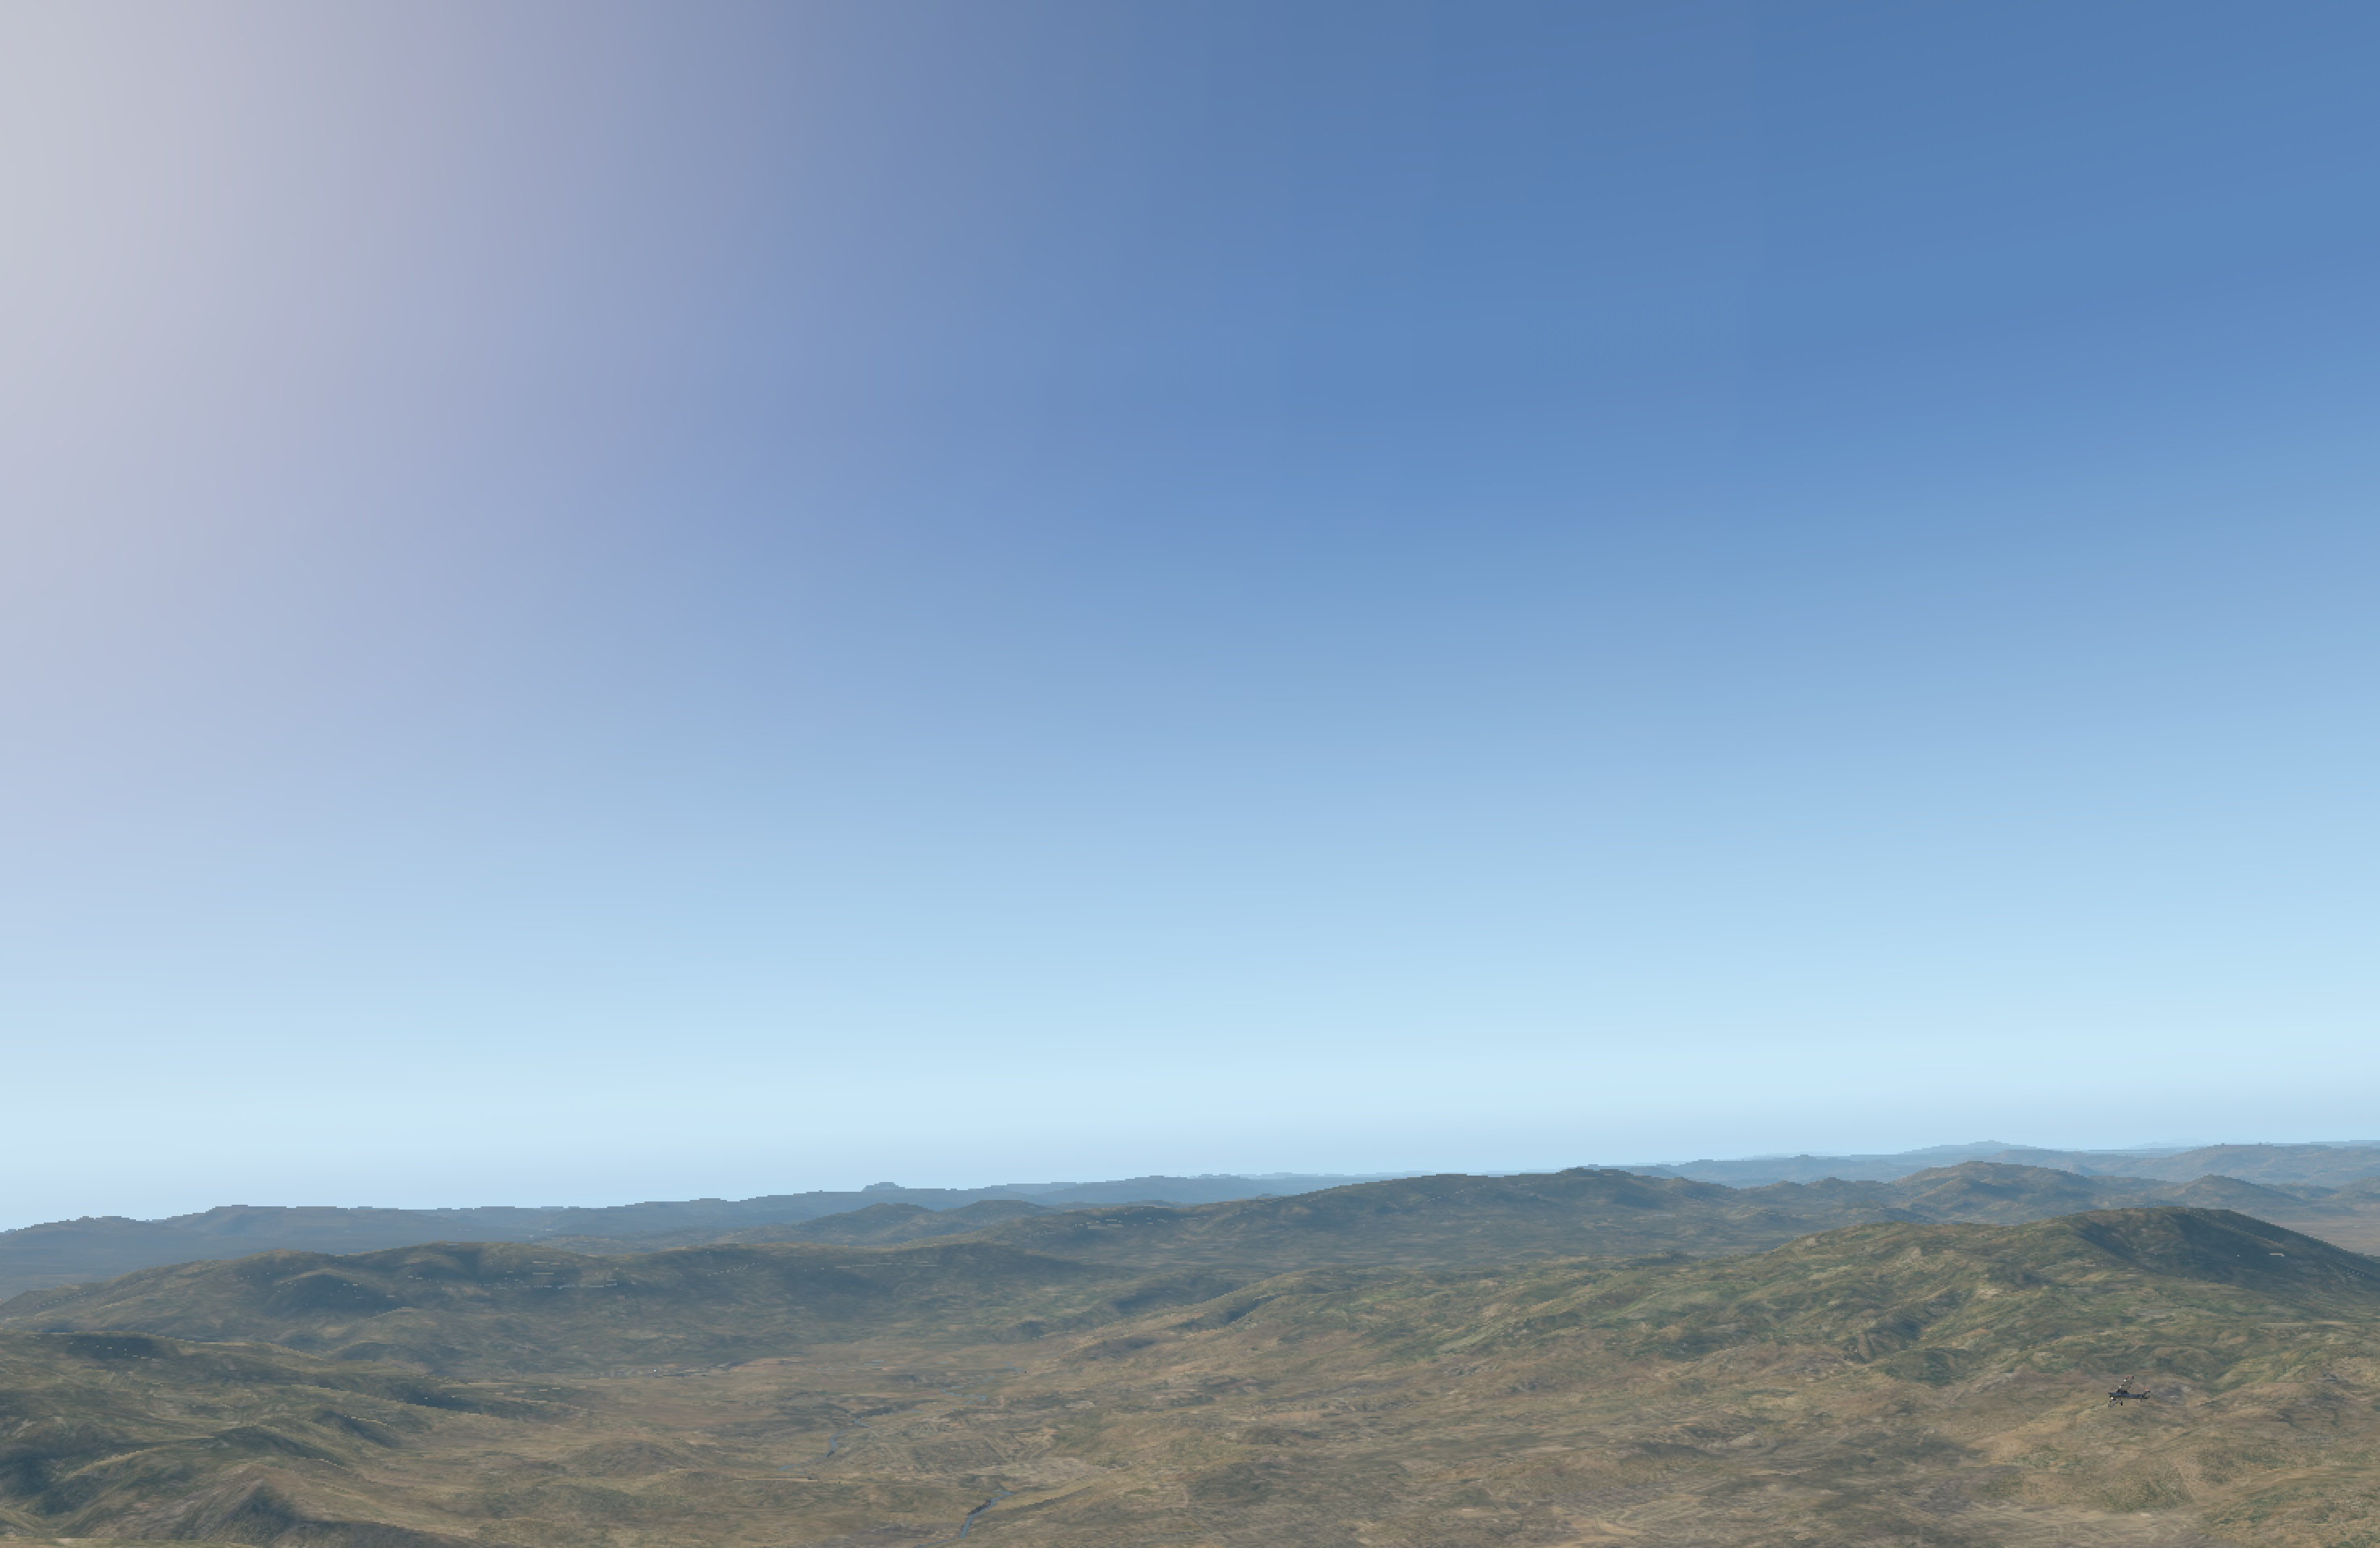aircraft: (2101, 1388, 2139, 1402)
